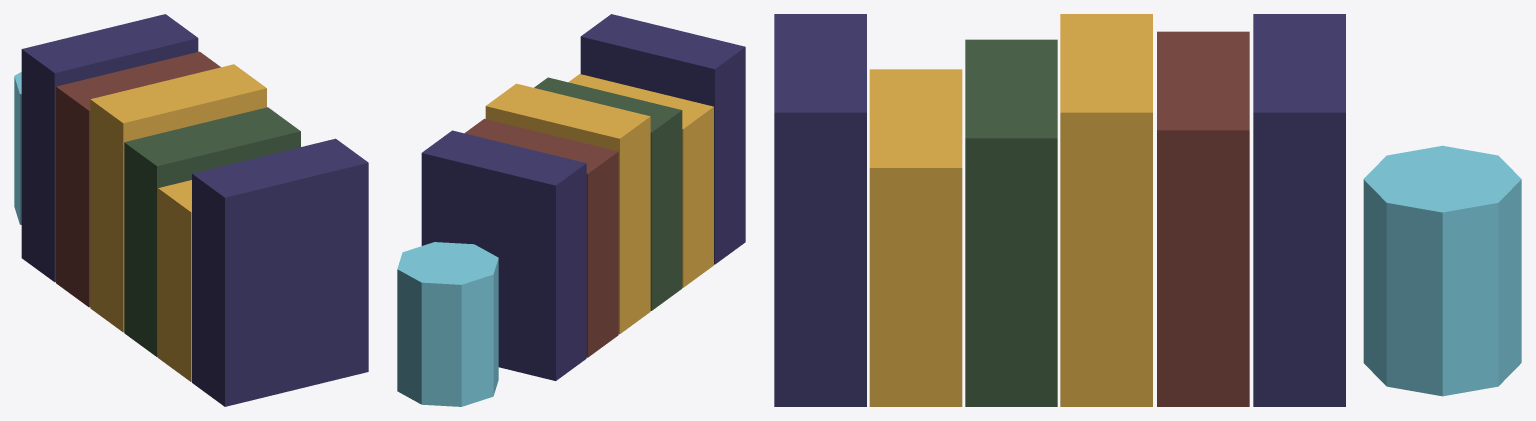
The model's file is CosasEstanteria.fbx.
3 views of the same model, side by side, from view 1: azimuth 30°, elevation 25°; view 2: azimuth 150°, elevation 25°; view 3: azimuth 270°, elevation 25° (orthographic). The views are drawn at different scales.
Visible parts, largest first — view 1: Libros, Cylinder; view 2: Libros, Cylinder; view 3: Libros, Cylinder.
Part boxes in pixels (x1,y1,x2,y2): Libros: (21,14,368,406); Cylinder: (14,72,21,224); Libros: (421,14,745,380); Cylinder: (397,242,498,406); Libros: (774,14,1345,406); Cylinder: (1363,145,1521,396).
Size of the model in its own units: 7.19 by 10 by 23.01.
